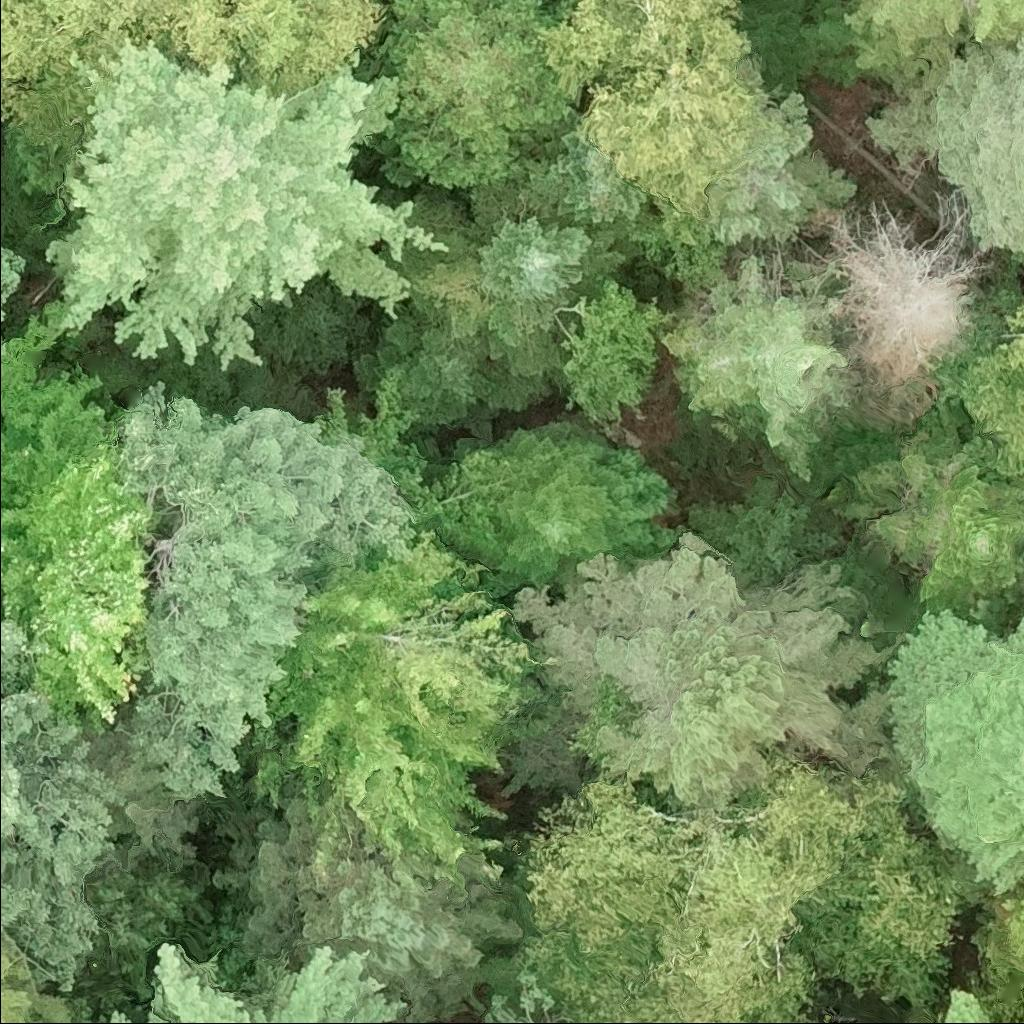crown: (42, 31, 451, 375), (111, 379, 426, 804), (510, 527, 902, 813), (246, 527, 544, 885), (514, 746, 861, 1023), (209, 797, 529, 1023), (0, 290, 160, 736), (320, 366, 548, 577), (0, 0, 390, 123), (0, 613, 124, 997), (787, 767, 982, 1011), (664, 253, 859, 483), (818, 187, 998, 431), (359, 0, 579, 196), (371, 182, 565, 401), (884, 601, 1023, 897), (862, 30, 1023, 261), (835, 424, 1023, 613), (577, 61, 768, 219), (538, 0, 754, 120), (353, 306, 532, 440), (791, 0, 1023, 98), (145, 941, 408, 1023), (470, 209, 625, 345), (499, 433, 643, 578), (939, 298, 1023, 477), (250, 279, 368, 387), (521, 168, 648, 244), (964, 881, 1023, 1023), (0, 924, 84, 1023), (522, 115, 616, 185), (485, 557, 568, 603), (0, 234, 31, 322), (938, 984, 991, 1023), (110, 1010, 135, 1023), (0, 332, 10, 347)
